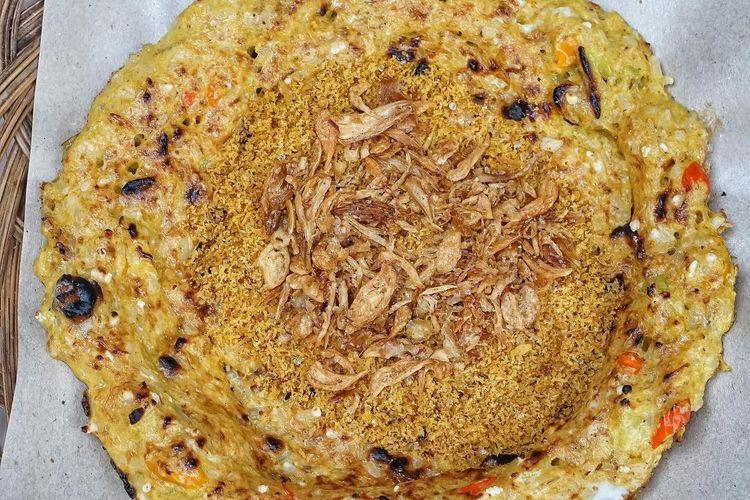kerak_telor: (34, 2, 737, 500)
